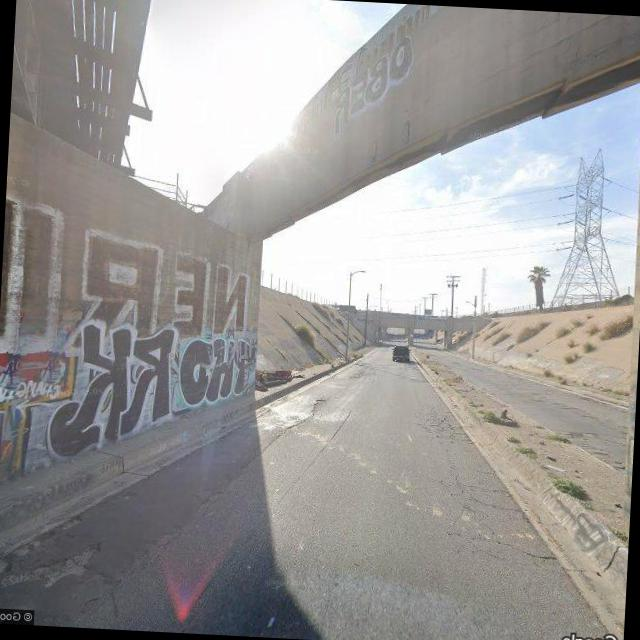crack: (434, 466, 556, 564), (414, 402, 474, 440)
